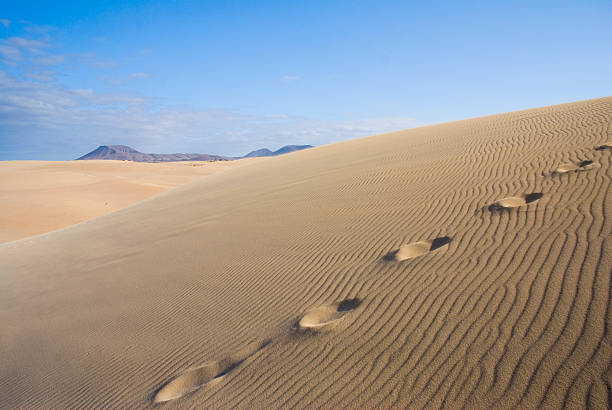human_foot_print: (152, 349, 268, 403), (284, 299, 362, 333), (392, 235, 456, 266), (498, 194, 537, 218), (556, 160, 594, 179)
